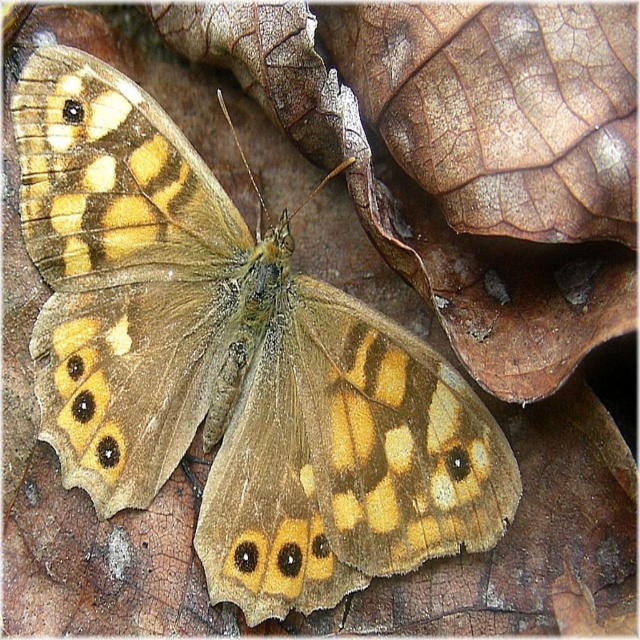Moths and butterflies: (10, 46, 522, 627)
